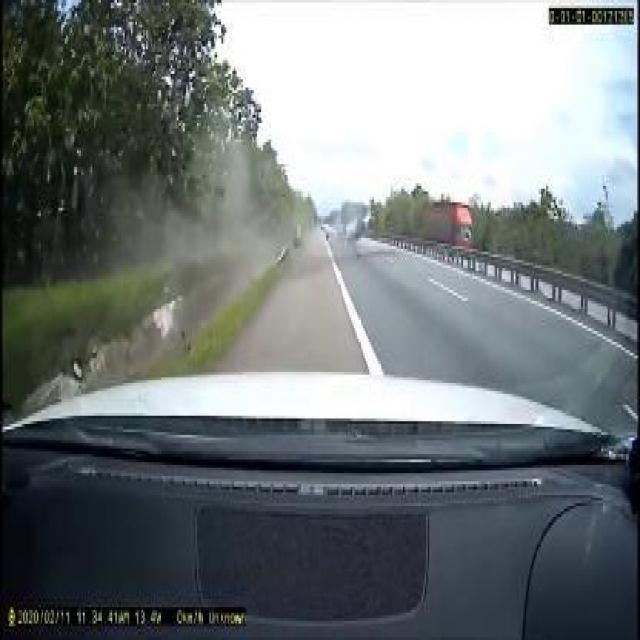accident: (336, 200, 376, 243)
